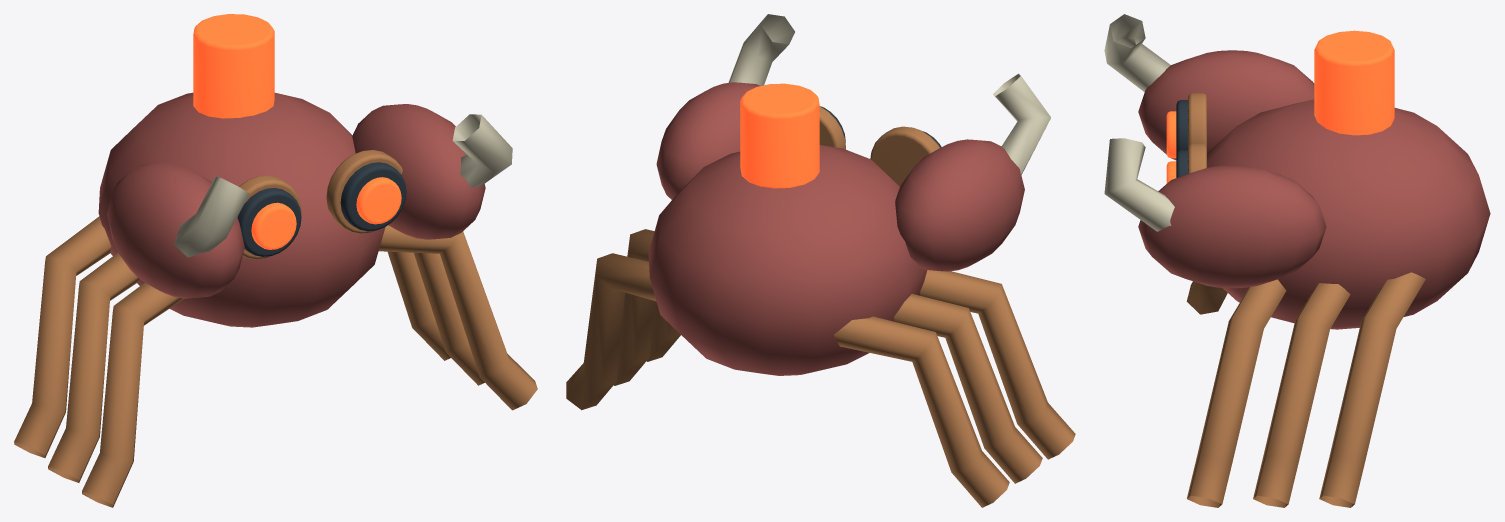
The model's file is jaiba.glb.
The picture shows the model from 3 angles, left to right: view 1: azimuth 30°, elevation 25°; view 2: azimuth 150°, elevation 25°; view 3: azimuth 270°, elevation 25°; orthographic projection. The views are drawn at different scales.
Parts seen in each view (by area): view 1: Red, Copper, Alarm, Cream, Ink; view 2: Red, Copper, Alarm, Cream; view 3: Red, Copper, Alarm, Cream, Ink.
Part boxes in pixels (x1,y1,x2,y2): Red: (98, 92, 485, 327); Copper: (14, 150, 537, 507); Alarm: (193, 14, 401, 249); Cream: (173, 114, 512, 257); Ink: (237, 162, 406, 256); Red: (648, 82, 1024, 375); Copper: (566, 106, 1075, 507); Alarm: (740, 83, 819, 188); Cream: (728, 14, 1050, 174); Red: (1138, 50, 1490, 329); Copper: (1186, 93, 1425, 507); Alarm: (1166, 30, 1394, 183); Cream: (1104, 14, 1174, 231); Ink: (1176, 100, 1187, 177).
Size of the model in its own units: 1.47 by 1.15 by 1.11.
